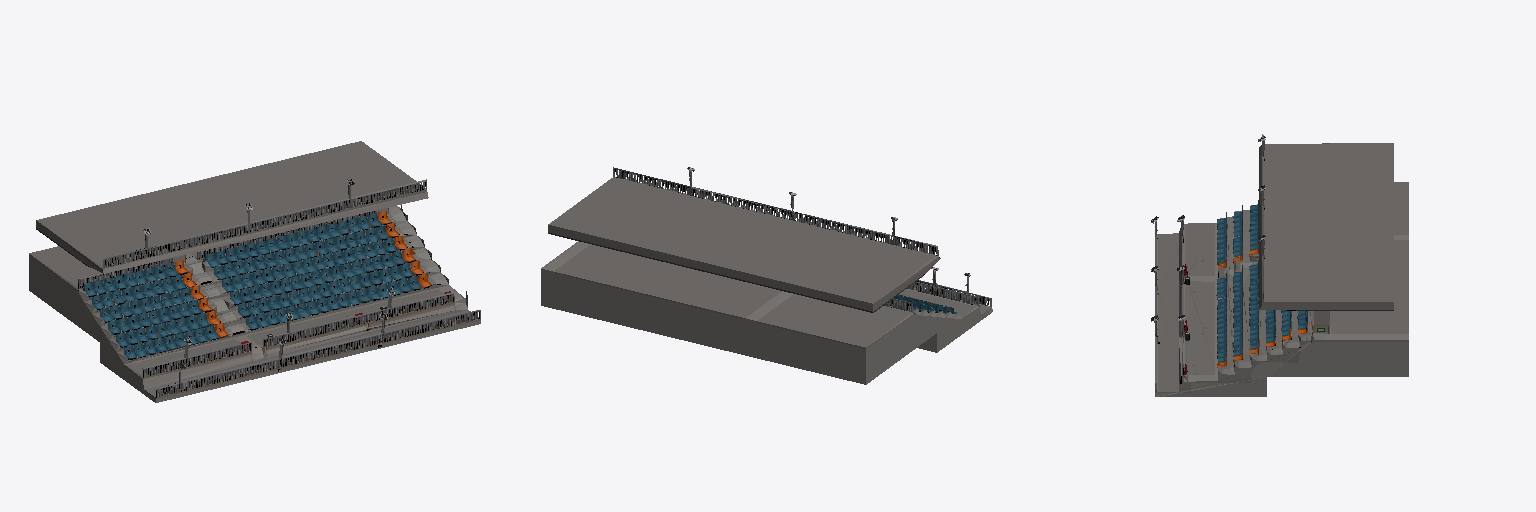
The picture shows the model from 3 angles: view 1: azimuth 30°, elevation 25°; view 2: azimuth 150°, elevation 25°; view 3: azimuth 270°, elevation 25°; orthographic projection.
Visible parts, largest first — view 1: Scene_Terrain_Stands_Low_M_1; view 2: Scene_Terrain_Stands_Low_M_1; view 3: Scene_Terrain_Stands_Low_M_1.
Boxes of the visible parts, <box> form: Scene_Terrain_Stands_Low_M_1: <box>29,141,480,402</box>; Scene_Terrain_Stands_Low_M_1: <box>541,167,992,384</box>; Scene_Terrain_Stands_Low_M_1: <box>1151,134,1408,396</box>.
Size of the model in its own units: 25.6 by 9.34 by 17.6.
Materials: 1 (1 with a texture image).